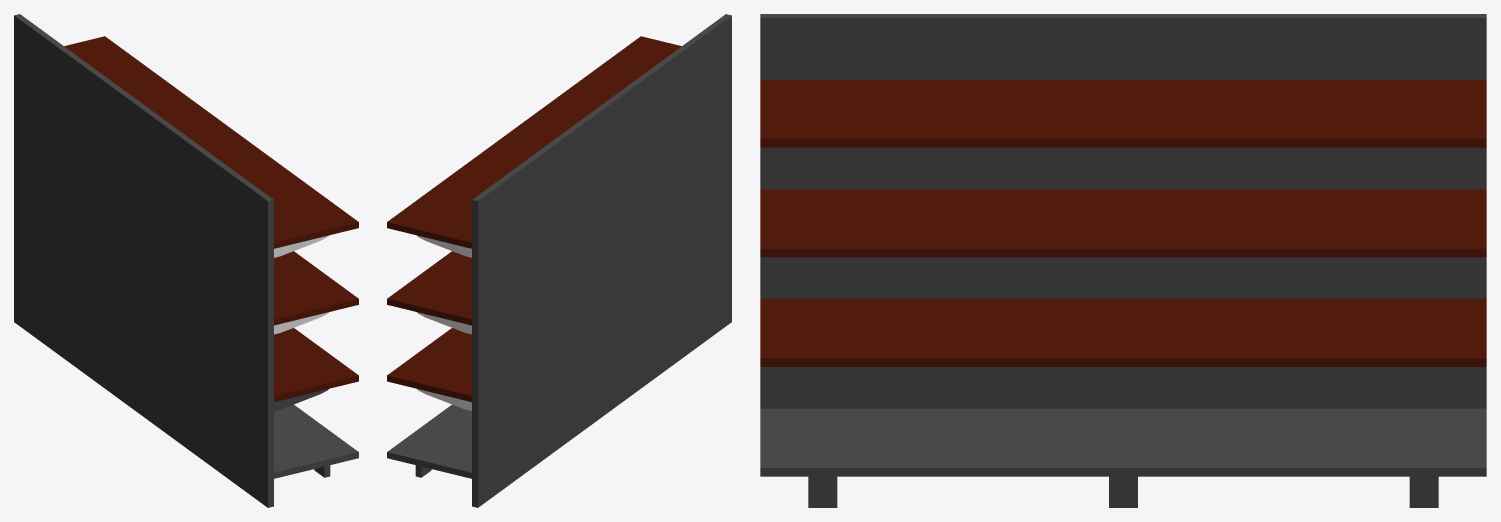
Rendered from Rack (1x3).fbx.
3 views of the same model, side by side, from view 1: azimuth 30°, elevation 25°; view 2: azimuth 150°, elevation 25°; view 3: azimuth 270°, elevation 25° (orthographic). The views are drawn at different scales.
Parts seen in each view (by area): view 1: Rack, RMounting; view 2: Rack, RMounting; view 3: Rack.
Part boxes in pixels (box(x1,y1,x2,y2)): Rack: box(14, 14, 358, 507); RMounting: box(274, 235, 328, 410); Rack: box(387, 14, 731, 507); RMounting: box(417, 235, 471, 410); Rack: box(760, 14, 1486, 507).
Size of the model in its own units: 62 by 200 by 300.
